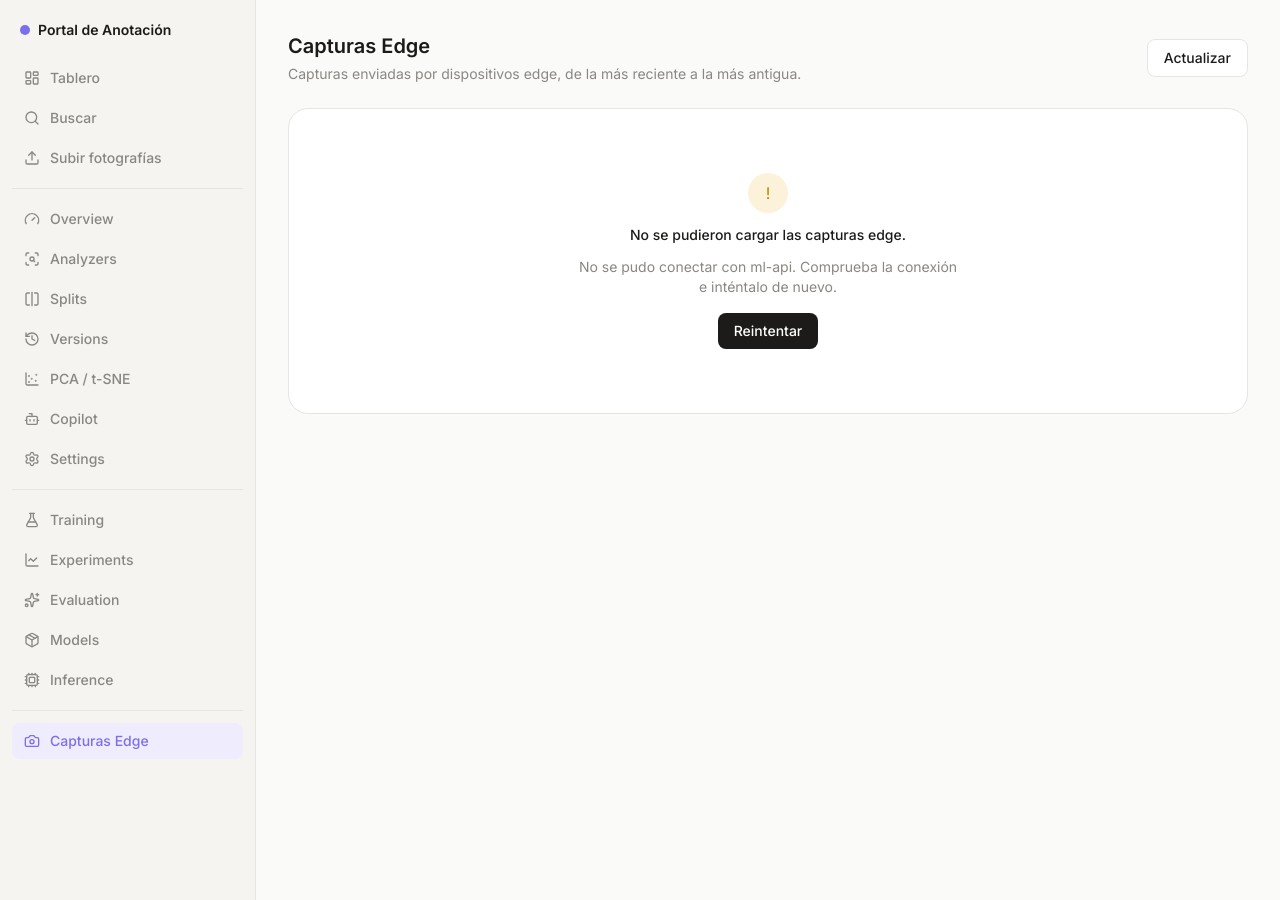
Test: P4-08 Capturas Edge › distingue fallo de conexión y respuesta incompatible sin mostrar detalles internos
Expected: the text "No se pudo conectar con ml-api. Comprueba la conexión e inténtalo de nuevo." is shown, x1=576 y1=257 x2=960 y2=297
Click the button "Reintentar" at (768, 331), box x1=718 y1=313 x2=818 y2=349
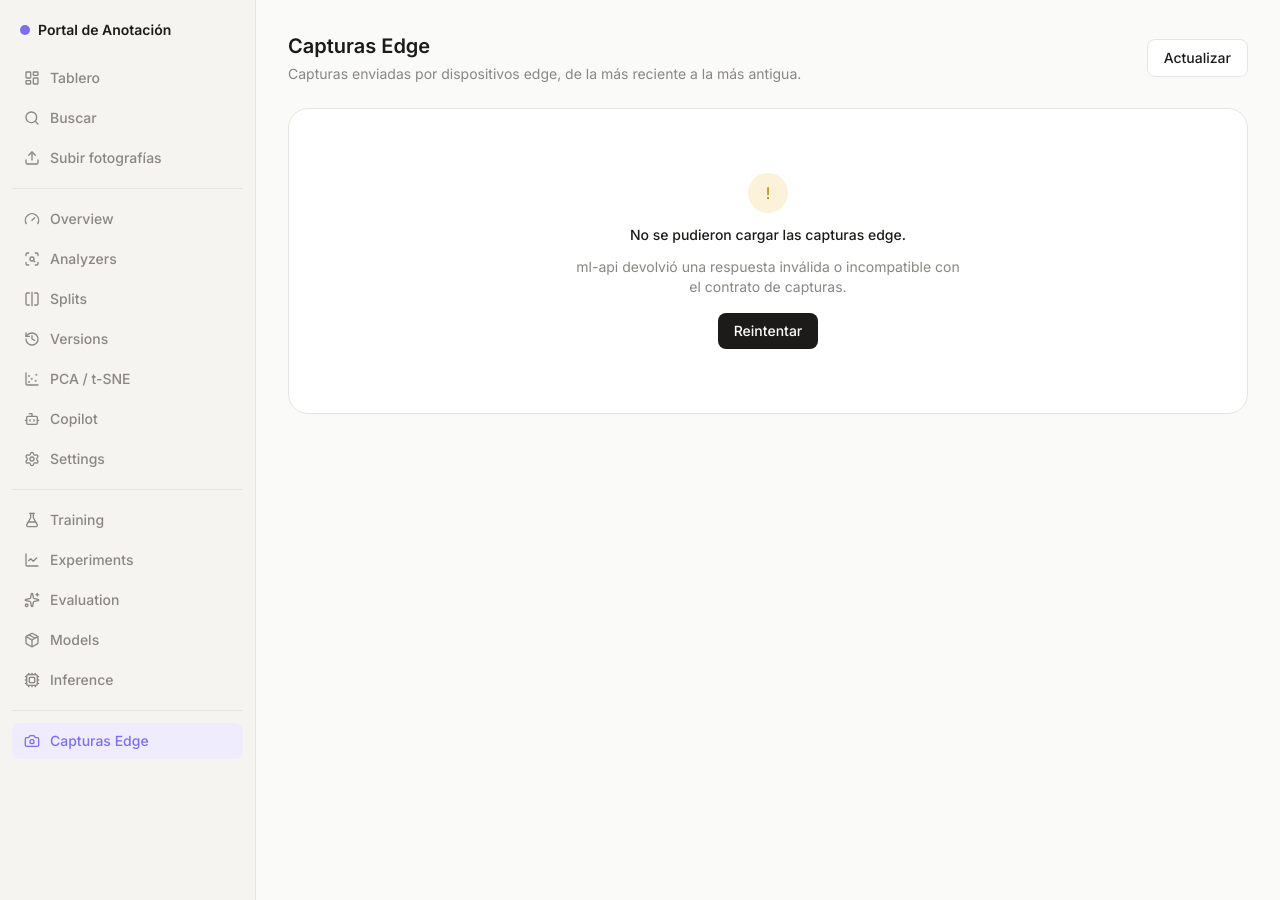
Expected: the text "ml-api devolvió una respuesta inválida o incompatible con el contrato de capturas." is shown, x1=576 y1=258 x2=960 y2=295
